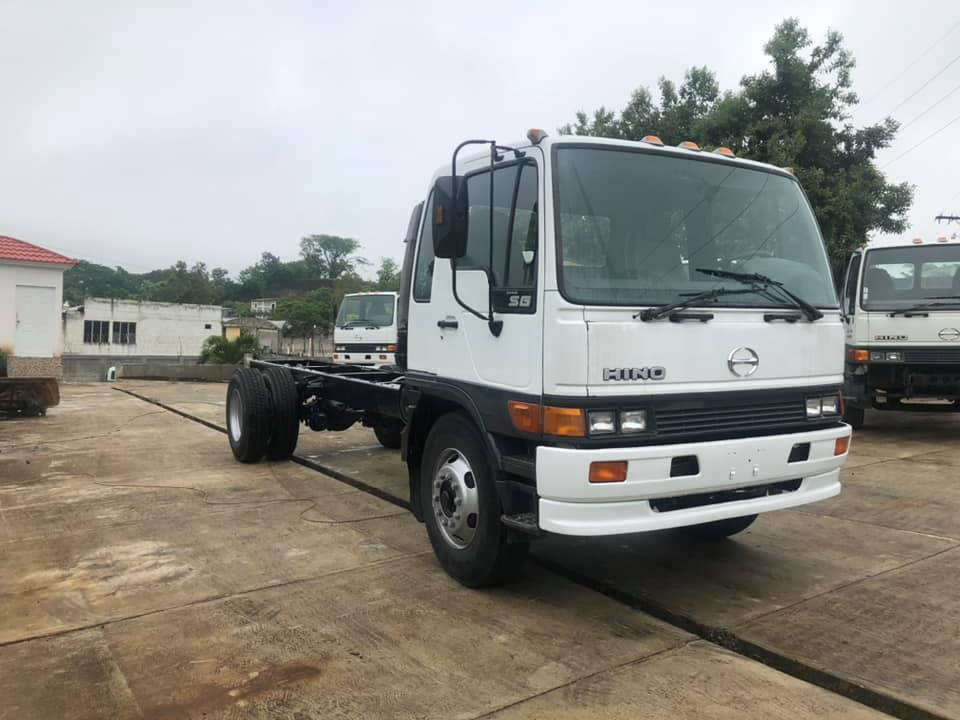camion: (220, 123, 847, 592)
